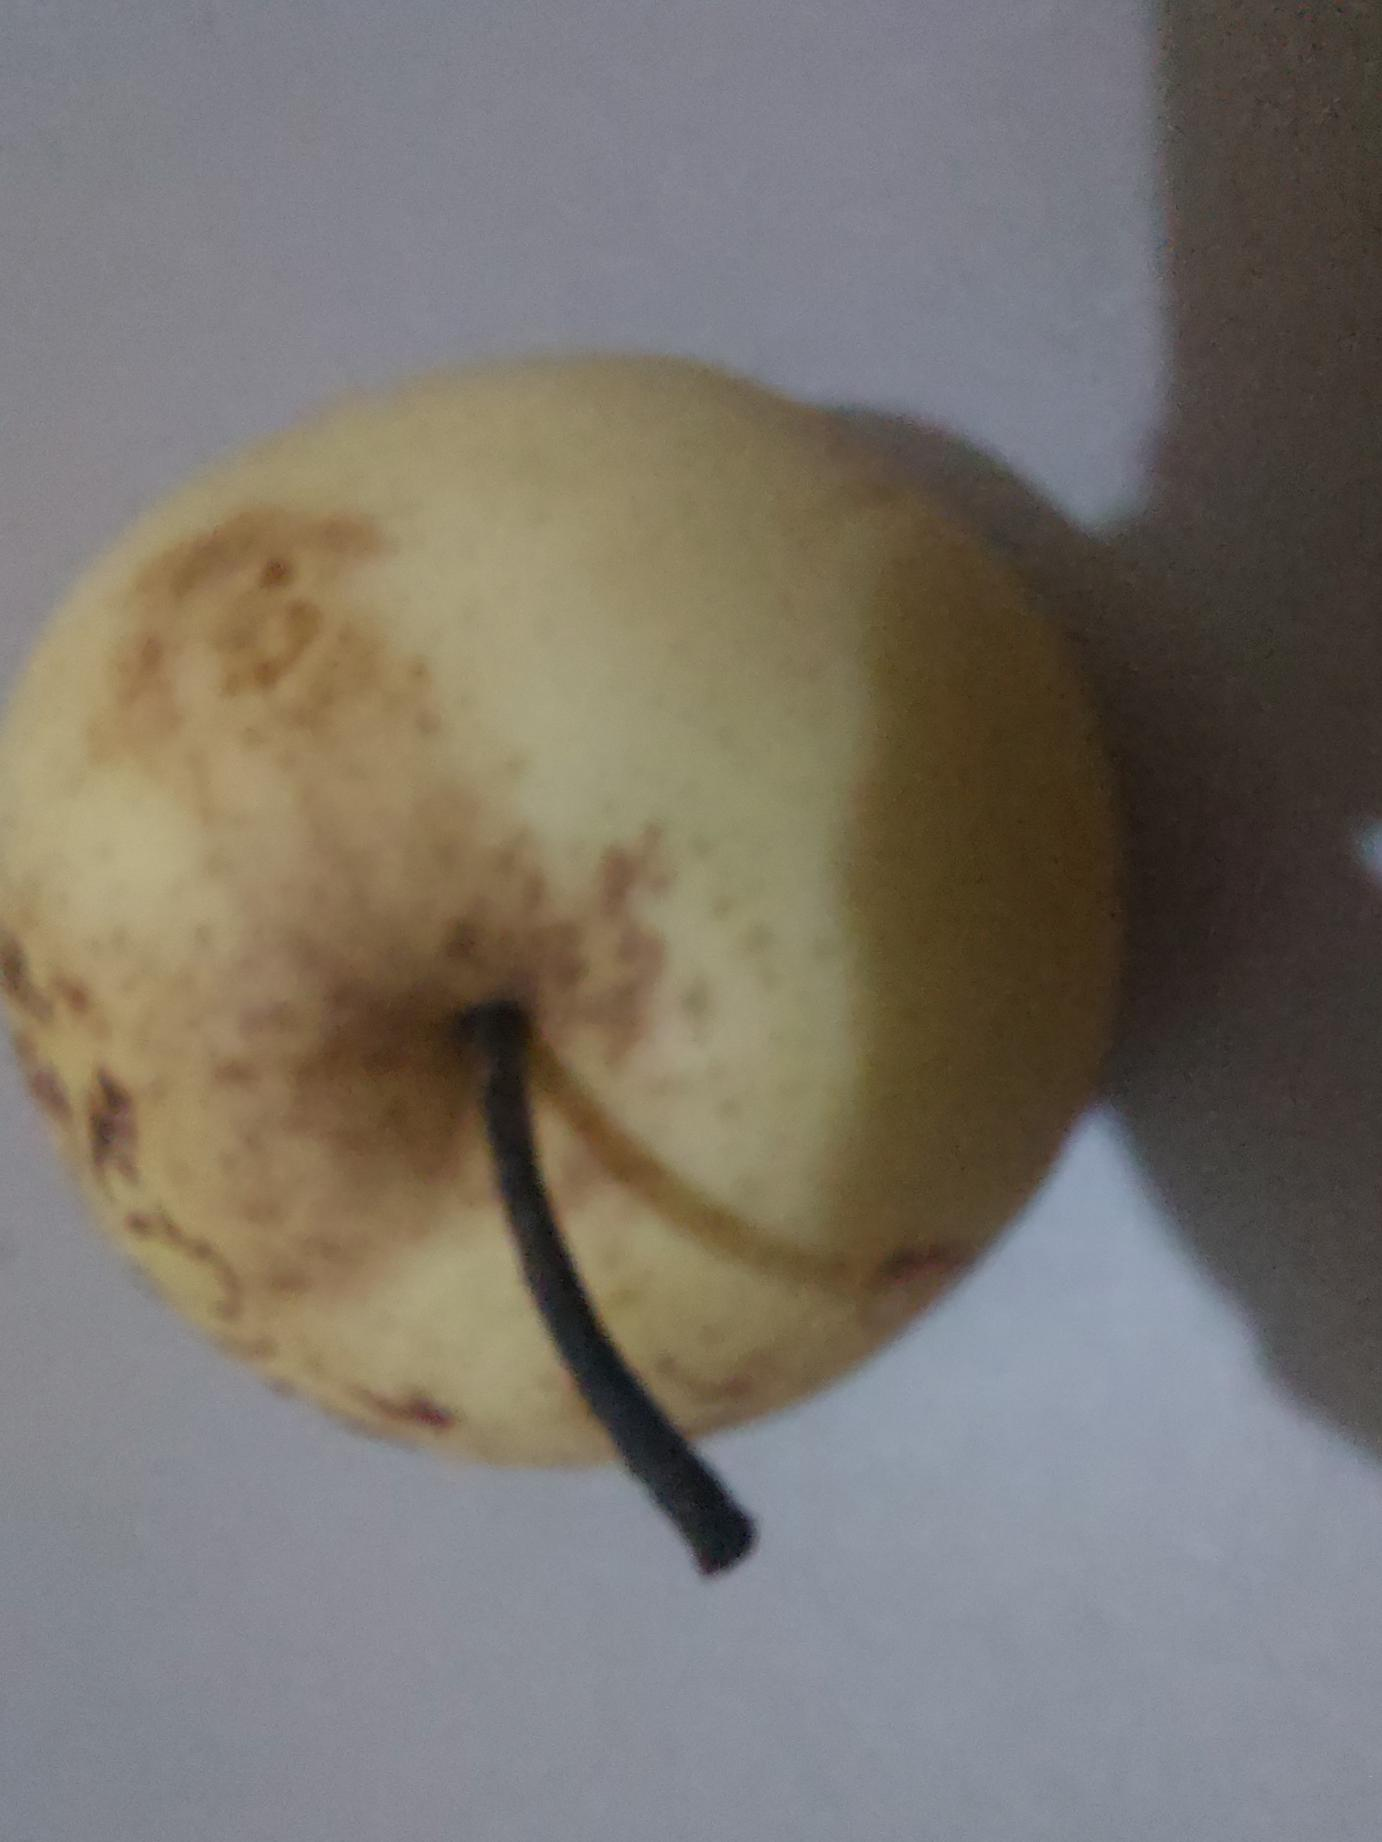Bad Pear: (0, 343, 1127, 1552)
